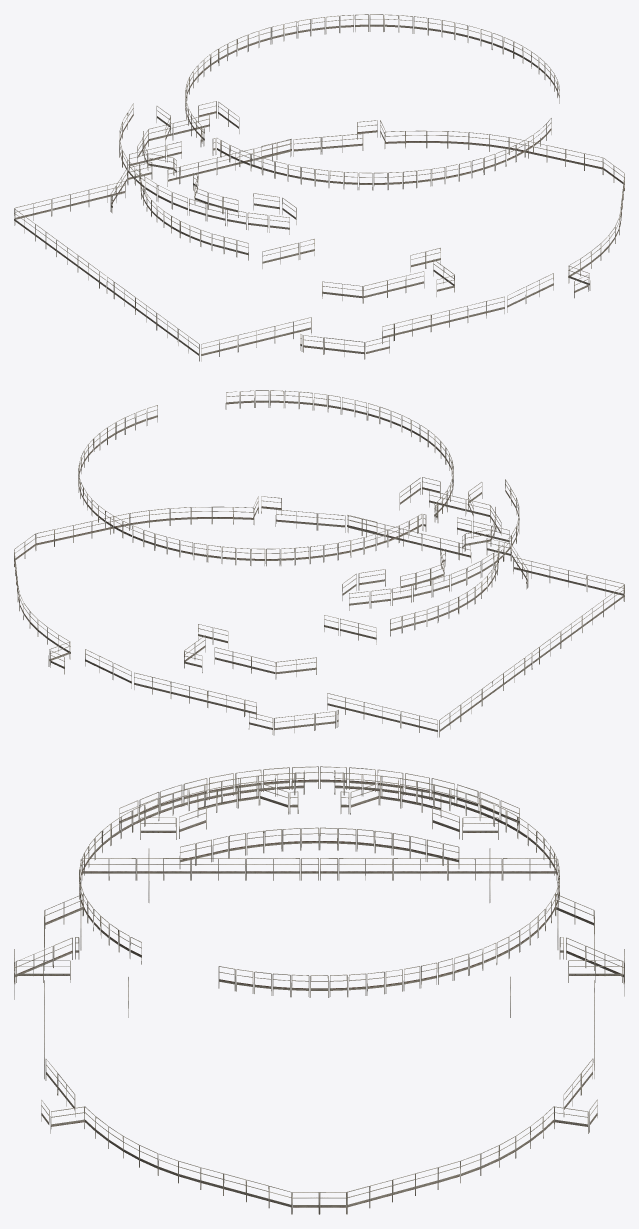
File: bucket_excavator_railings.glb
3 views of the same model, one above another, from view 1: azimuth 30°, elevation 25°; view 2: azimuth 150°, elevation 25°; view 3: azimuth 270°, elevation 25° (orthographic). The views are drawn at different scales.
Parts seen in each view (by area): view 1: bucket_excavator_railings; view 2: bucket_excavator_railings; view 3: bucket_excavator_railings.
Boxes of the visible parts, bbox=[...] form: bucket_excavator_railings: bbox=[14, 14, 624, 361]; bucket_excavator_railings: bbox=[14, 390, 624, 737]; bucket_excavator_railings: bbox=[14, 766, 624, 1214].
Size of the model in its own units: 41.21 by 11.49 by 33.51.
1 material, 1 textured.
